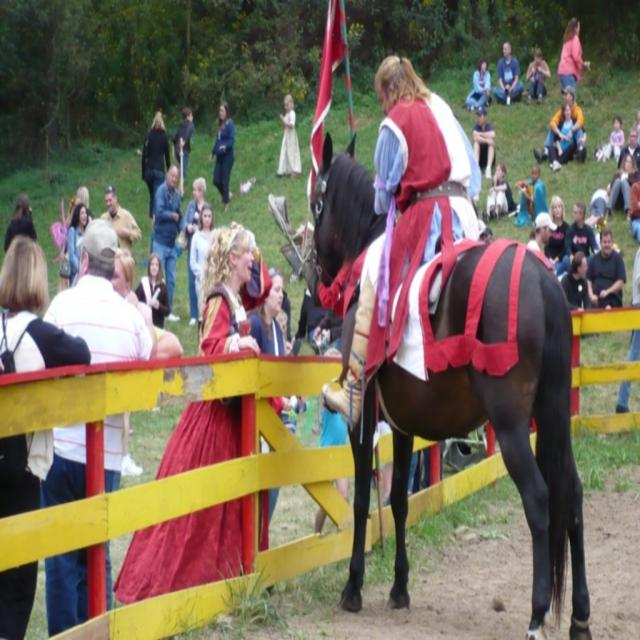Horse: (306, 125, 595, 640)
